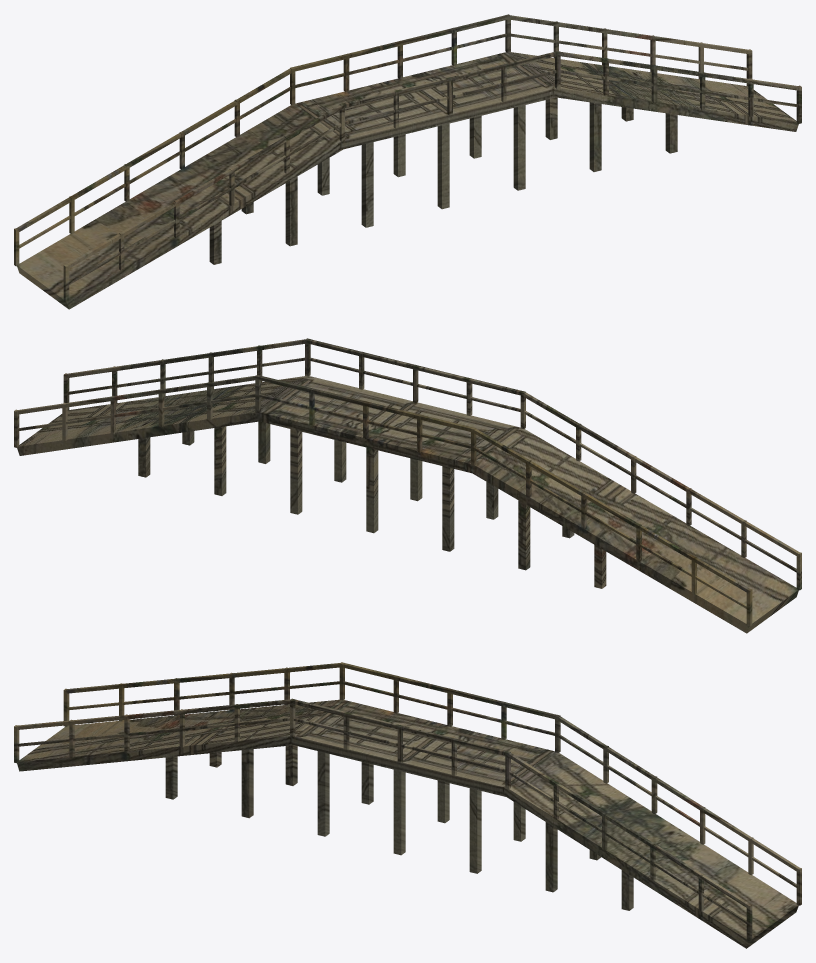
3 renders of one model, top to bottom at view 1: azimuth 30°, elevation 25°; view 2: azimuth 150°, elevation 25°; view 3: azimuth 330°, elevation 25°, orthographic.
Parts seen in each view (by area): view 1: geometry_0; view 2: geometry_0; view 3: geometry_0.
Part boxes in pixels (box(x1,y1,x2,y2)): geometry_0: box(14, 14, 801, 309); geometry_0: box(14, 338, 801, 633); geometry_0: box(14, 662, 801, 948).
Bounding box in the file's own units: 21.31 × 3.83 × 2.6.
1 material, 1 textured.
